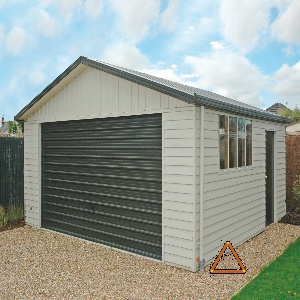triangle: (207, 237, 249, 276)
